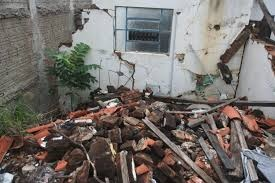rubble: (21, 90, 262, 183)
